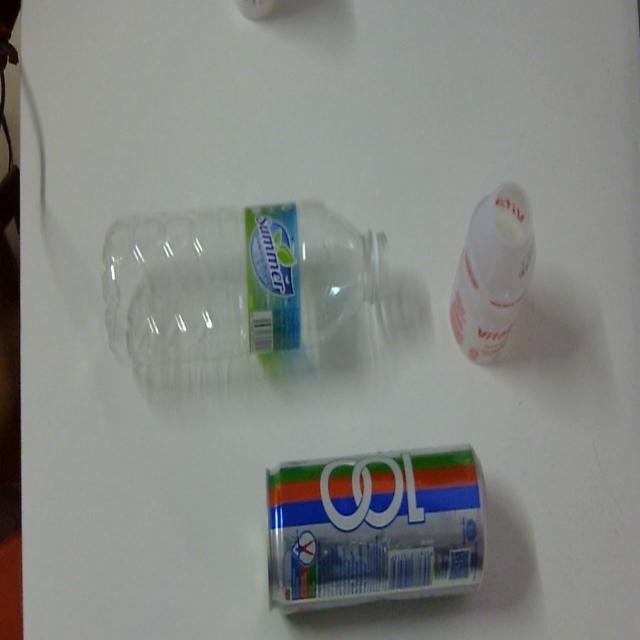metal_laydown_0rotation: (255, 436, 495, 619)
plastic_laydown_0rotation: (90, 190, 394, 378)
plastic_standrotation: (438, 168, 544, 368)
